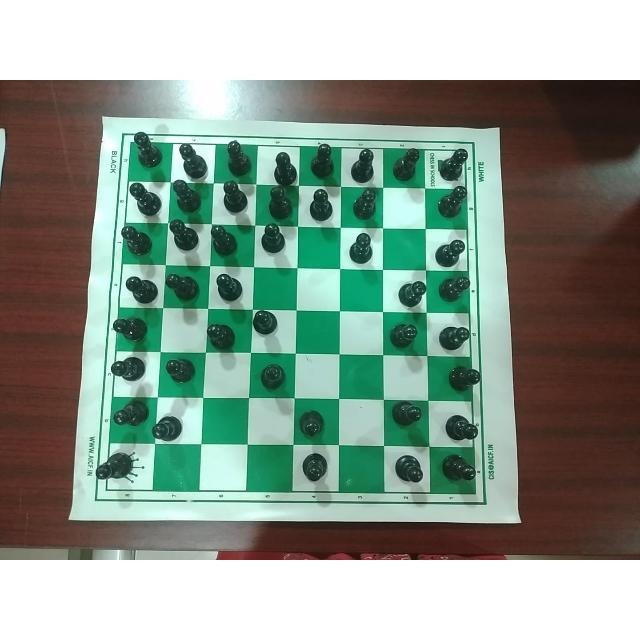black-pawn: (94, 447, 138, 483), (440, 451, 478, 491), (119, 222, 159, 258), (109, 402, 151, 434), (177, 139, 211, 178), (130, 130, 163, 170), (111, 313, 151, 346), (389, 396, 425, 432), (435, 185, 469, 223), (163, 270, 203, 302), (108, 354, 148, 386), (127, 182, 163, 216), (122, 271, 158, 305), (392, 451, 426, 487), (223, 137, 252, 179), (436, 143, 468, 181), (435, 319, 474, 350), (306, 184, 336, 224), (255, 220, 289, 255), (167, 218, 201, 253), (392, 148, 424, 184), (170, 180, 206, 212), (219, 179, 251, 215), (437, 273, 473, 305), (299, 446, 329, 484), (395, 274, 426, 310), (206, 316, 237, 352), (268, 147, 297, 185), (442, 413, 480, 442), (310, 139, 338, 178), (264, 186, 296, 220), (209, 224, 243, 256), (215, 270, 247, 304), (447, 362, 483, 392), (150, 414, 186, 444), (350, 144, 376, 184), (348, 188, 380, 220), (164, 357, 197, 388), (298, 404, 326, 440), (434, 236, 467, 266), (249, 309, 282, 339), (389, 318, 419, 349), (346, 232, 375, 264), (256, 360, 288, 389)
